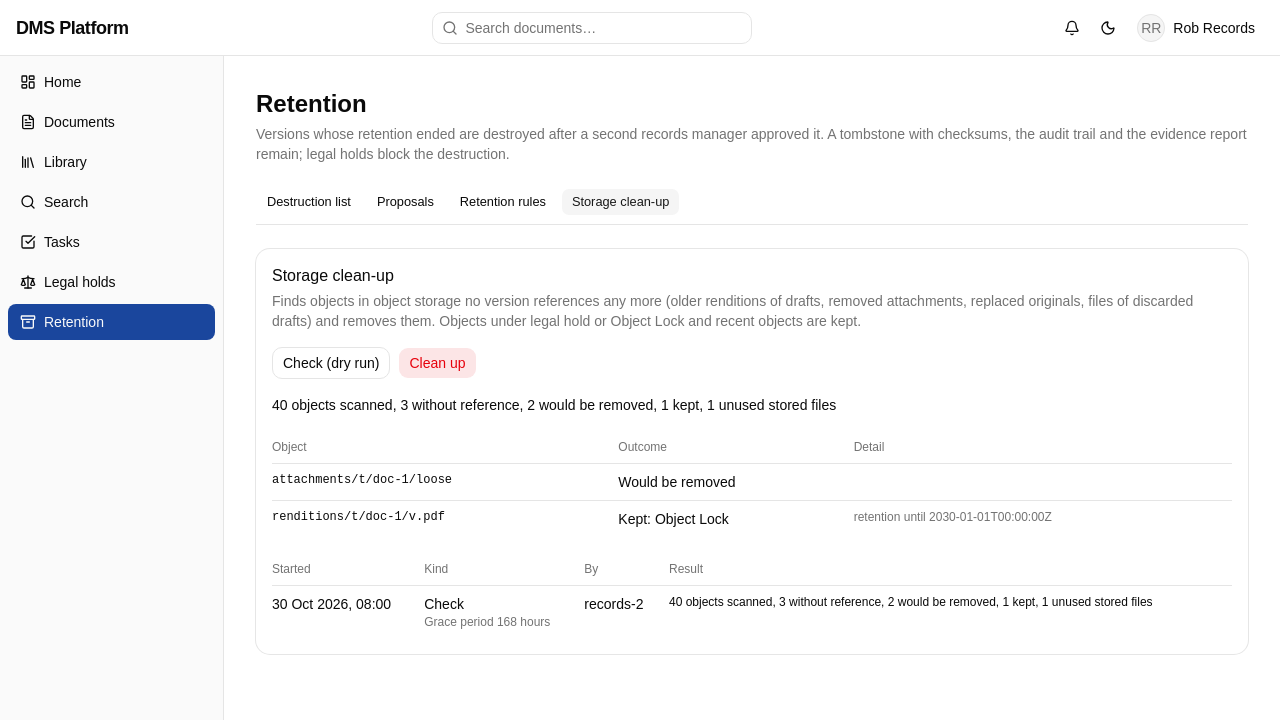
Test: retention rules and clean-up › checks object storage in a dry run and shows the report
expect the message with test id "cleanup-summary" shows "40 objects scanned, 3 without reference, 2 would be removed, 1 kept, 1 unused stored files": met, box [272, 397, 836, 413]
expect the cell "Kept: Object Lock" is shown: met, box [618, 500, 854, 537]
Click the button "Check (dry run)" at (331, 363), box [272, 347, 390, 379]
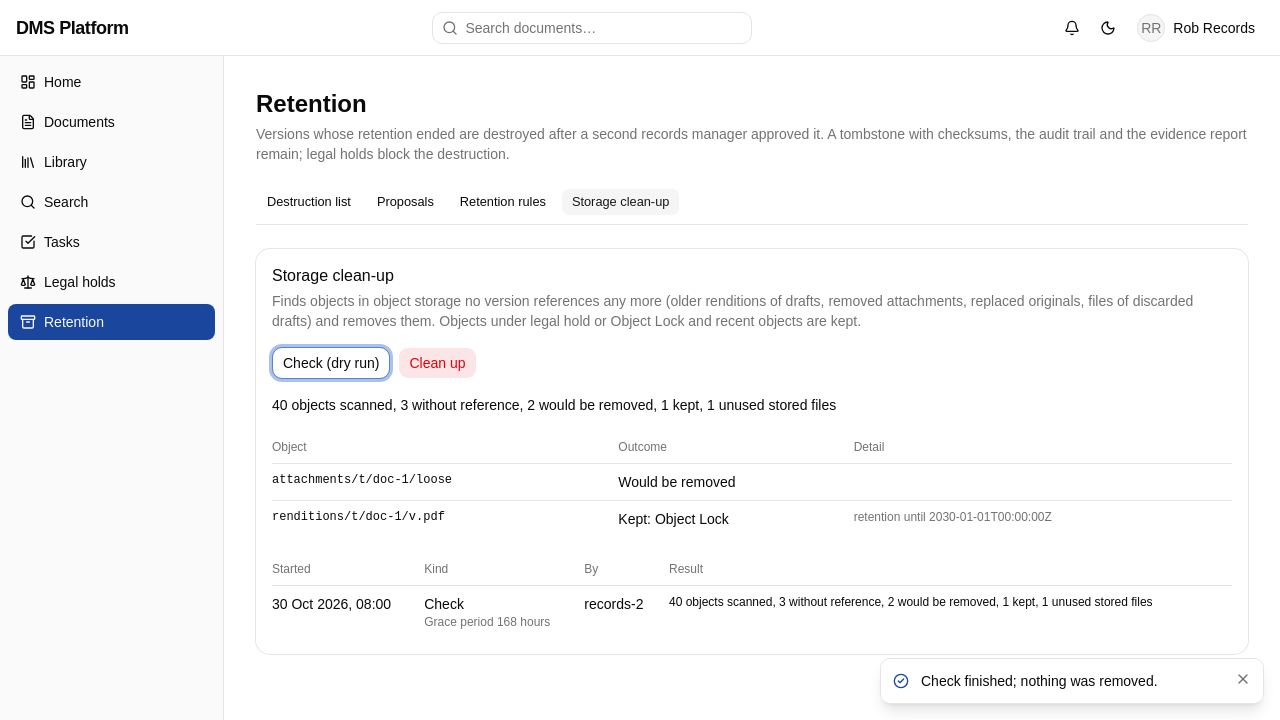
expect the text "Check finished; nothing was removed." is shown: met, box [921, 673, 1158, 689]
